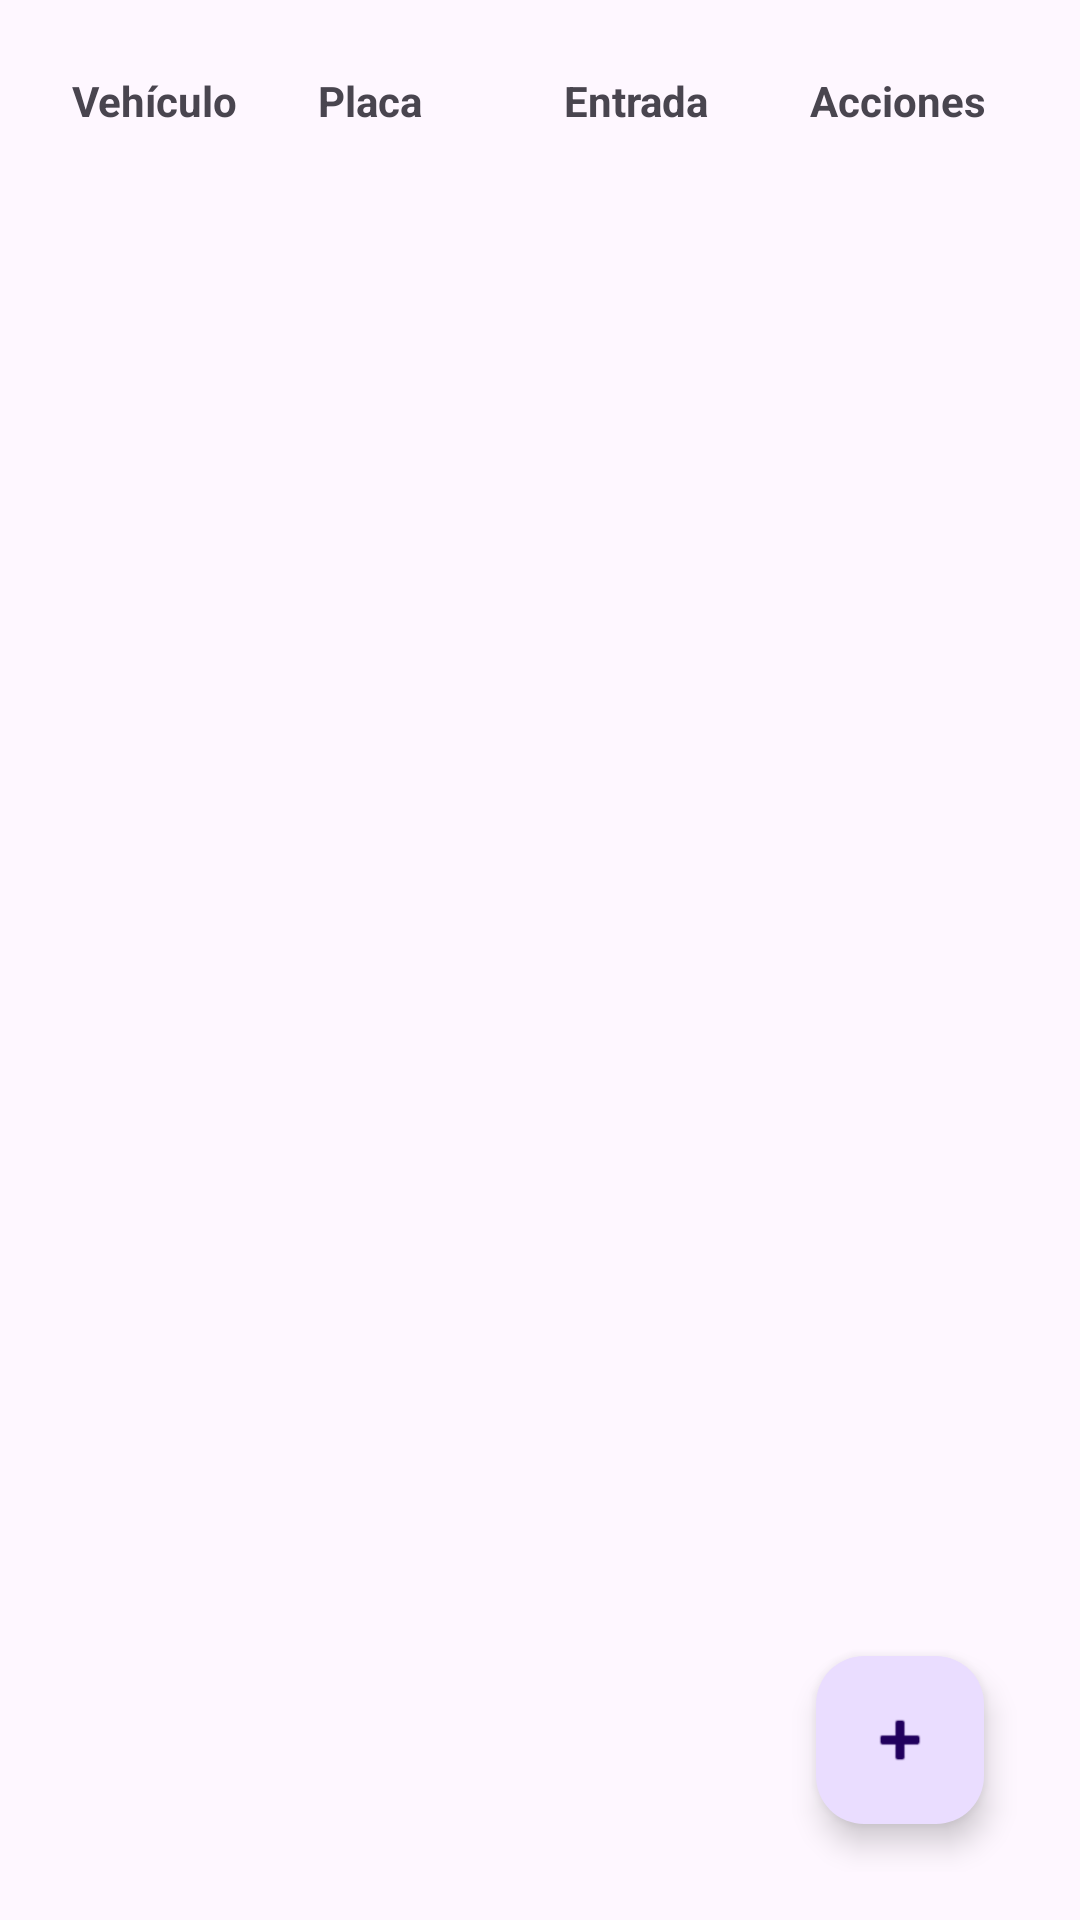

Screen size 1080px×1920px. Icon name, then its box in pixels as (x1, y1, x2, y2):
agregar: (816, 1656, 984, 1824)
